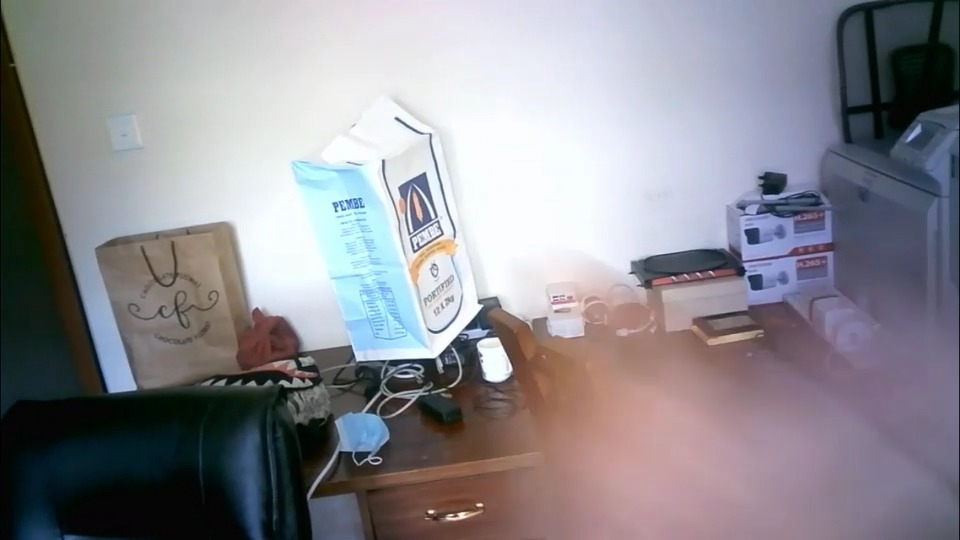wheat_flour_blue_label: (289, 93, 482, 355)
